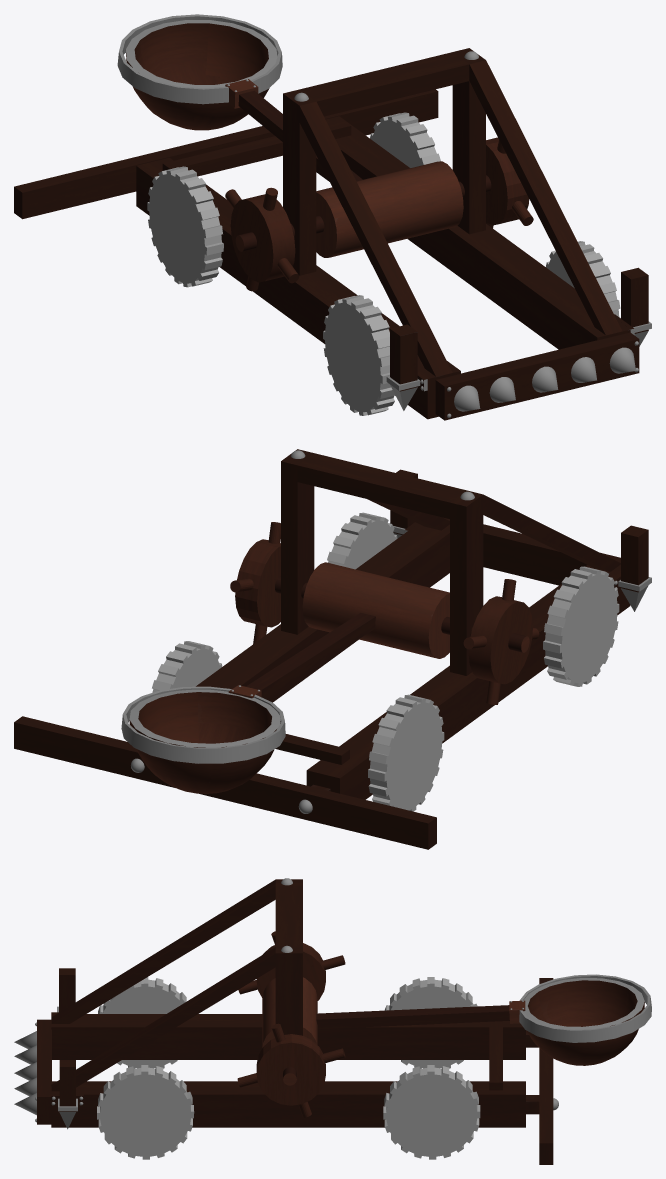
File: Catapul_JoinedWheel.FBX
The picture shows the model from 3 angles, top to bottom: view 1: azimuth 30°, elevation 25°; view 2: azimuth 150°, elevation 25°; view 3: azimuth 270°, elevation 25°; orthographic projection. The views are drawn at different scales.
Visible parts, largest first — view 1: Body, CatapultArm, RightTurningWheel, R_BWheel, R_FWheel, L_BWheel, L_FWheel; view 2: Body, CatapultArm, RightTurningWheel, R_FWheel, R_BWheel, L_FWheel, L_BWheel; view 3: Body, CatapultArm, L_FWheel, L_BWheel, RightTurningWheel, R_FWheel, R_BWheel.
Part boxes in pixels (<box>): Body: <box>14,48,651,420</box>; CatapultArm: <box>117,14,491,257</box>; RightTurningWheel: <box>225,137,533,291</box>; R_BWheel: <box>147,166,223,287</box>; R_FWheel: <box>323,295,395,415</box>; L_BWheel: <box>370,112,440,167</box>; L_FWheel: <box>546,241,620,318</box>; Body: <box>14,449,651,849</box>; CatapultArm: <box>121,562,529,793</box>; RightTurningWheel: <box>230,522,539,704</box>; R_FWheel: <box>543,566,619,686</box>; R_BWheel: <box>368,694,444,811</box>; L_FWheel: <box>327,512,397,569</box>; L_BWheel: <box>152,641,222,692</box>; Body: <box>14,878,558,1164</box>; CatapultArm: <box>262,974,651,1085</box>; L_FWheel: <box>97,1065,194,1159</box>; L_BWheel: <box>383,1065,480,1159</box>; RightTurningWheel: <box>237,931,345,1117</box>; R_FWheel: <box>98,977,186,1068</box>; R_BWheel: <box>384,977,477,1068</box>.
Size of the model in its own units: 5.62 by 3.18 by 9.17.
